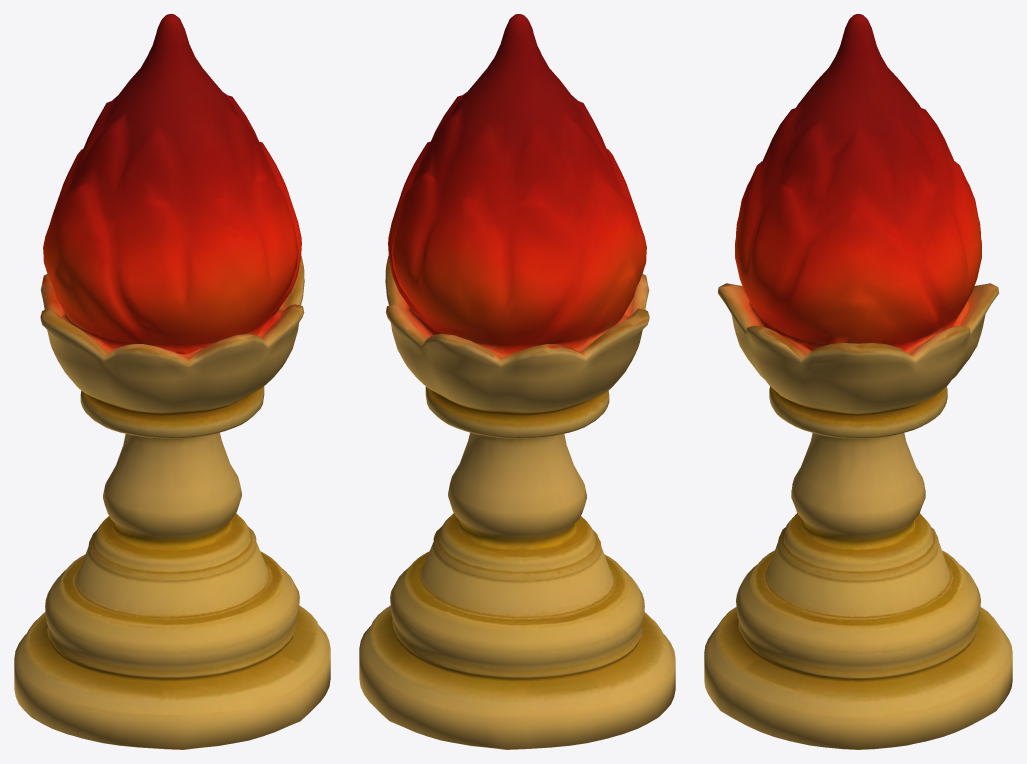
File: DenTho.glb
3 views of the same model, side by side, from view 1: azimuth 30°, elevation 25°; view 2: azimuth 150°, elevation 25°; view 3: azimuth 270°, elevation 25° (orthographic).
Parts seen in each view (by area): view 1: part_0000; view 2: part_0000; view 3: part_0000.
Boxes of the visible parts, <box> form: part_0000: <box>14,14,330,749</box>; part_0000: <box>359,14,675,749</box>; part_0000: <box>704,14,1012,749</box>.
Bounding box in the file's own units: 0.4848 × 1.1 × 0.4619.
1 material, 1 textured.
